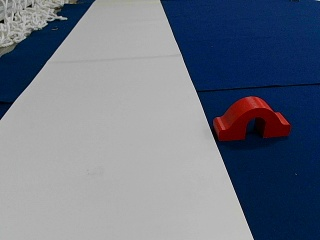bridge: (214, 96, 289, 138)
